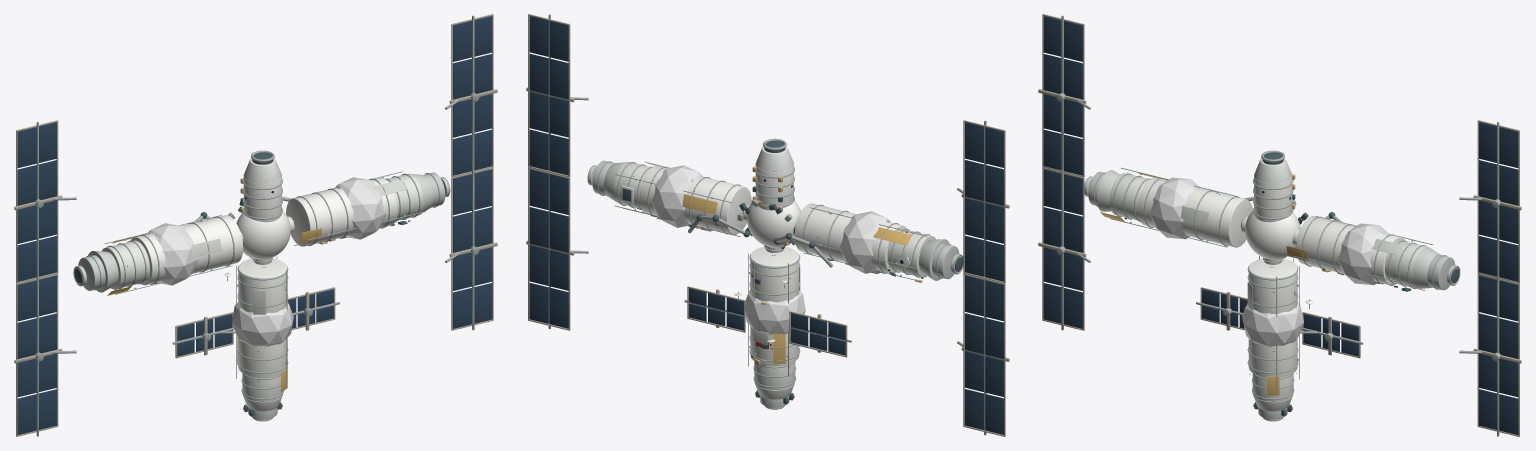
The model's file is station-exterior-v4.glb.
3 views of the same model, side by side, from view 1: azimuth 30°, elevation 25°; view 2: azimuth 150°, elevation 25°; view 3: azimuth 330°, elevation 25° (orthographic).
Visible parts, largest first — view 1: STA_Solar_Array_Lower_Left, STA_Solar_Array_Upper_Left, STA_Solar_Array_Lower_Right, STA_Solar_Array_Upper_Right, STA_Mengtian_WorkingCabin_Shell, STA_Wentian_WorkingCabin_Shell, STA_Tianhe_LifeControlForward_Shell, HOTSPOT_Module_Tianhe, HOTSPOT_Module_Mengtian, HOTSPOT_Module_Wentian, STA_Central_Node_V4, STA_Tianhe_LifeControlAft_Shell (+9 smaller); view 2: STA_Solar_Array_Upper_Right, STA_Solar_Array_Lower_Right, STA_Solar_Array_Upper_Left, STA_Solar_Array_Lower_Left, STA_Wentian_WorkingCabin_Shell, STA_Mengtian_WorkingCabin_Shell, STA_Tianhe_LifeControlForward_Shell, HOTSPOT_Module_Mengtian, HOTSPOT_Module_Wentian, HOTSPOT_Module_Tianhe, STA_Central_Node_V4, STA_Solar_Array_Core_Left (+9 smaller); view 3: STA_Solar_Array_Lower_Right, STA_Solar_Array_Upper_Right, STA_Solar_Array_Lower_Left, STA_Solar_Array_Upper_Left, STA_Wentian_WorkingCabin_Shell, STA_Mengtian_WorkingCabin_Shell, STA_Tianhe_LifeControlForward_Shell, HOTSPOT_Module_Tianhe, HOTSPOT_Module_Mengtian, HOTSPOT_Module_Wentian, STA_Central_Node_V4, STA_Tianhe_LifeControlAft_Shell (+10 smaller).
Boxes of the visible parts, bbox=[...] form: STA_Solar_Array_Lower_Left: bbox=[17, 275, 56, 434]; STA_Solar_Array_Upper_Left: bbox=[17, 122, 56, 281]; STA_Solar_Array_Lower_Right: bbox=[453, 169, 492, 328]; STA_Solar_Array_Upper_Right: bbox=[453, 16, 492, 175]; STA_Mengtian_WorkingCabin_Shell: bbox=[286, 177, 397, 246]; STA_Wentian_WorkingCabin_Shell: bbox=[130, 215, 243, 285]; STA_Tianhe_LifeControlForward_Shell: bbox=[238, 258, 287, 312]; HOTSPOT_Module_Tianhe: bbox=[232, 302, 293, 346]; HOTSPOT_Module_Mengtian: bbox=[334, 177, 385, 239]; HOTSPOT_Module_Wentian: bbox=[148, 223, 197, 285]; STA_Central_Node_V4: bbox=[236, 211, 290, 259]; STA_Tianhe_LifeControlAft_Shell: bbox=[238, 339, 286, 377]; STA_Solar_Array_Upper_Right: bbox=[529, 16, 568, 175]; STA_Solar_Array_Lower_Right: bbox=[529, 169, 568, 328]; STA_Solar_Array_Upper_Left: bbox=[965, 122, 1003, 281]; STA_Solar_Array_Lower_Left: bbox=[965, 275, 1003, 434]; STA_Wentian_WorkingCabin_Shell: bbox=[794, 203, 906, 272]; STA_Mengtian_WorkingCabin_Shell: bbox=[640, 165, 751, 234]; STA_Tianhe_LifeControlForward_Shell: bbox=[750, 246, 799, 302]; HOTSPOT_Module_Mengtian: bbox=[651, 165, 702, 227]; HOTSPOT_Module_Wentian: bbox=[840, 211, 891, 273]; HOTSPOT_Module_Tianhe: bbox=[744, 289, 805, 334]; STA_Central_Node_V4: bbox=[747, 201, 801, 247]; STA_Solar_Array_Core_Left: bbox=[791, 313, 845, 355]; STA_Solar_Array_Lower_Right: bbox=[1479, 275, 1518, 434]; STA_Solar_Array_Upper_Right: bbox=[1479, 122, 1518, 281]; STA_Solar_Array_Lower_Left: bbox=[1043, 169, 1082, 328]; STA_Solar_Array_Upper_Left: bbox=[1043, 16, 1082, 175]; STA_Wentian_WorkingCabin_Shell: bbox=[1138, 177, 1252, 247]; STA_Mengtian_WorkingCabin_Shell: bbox=[1296, 216, 1404, 285]; STA_Tianhe_LifeControlForward_Shell: bbox=[1248, 258, 1297, 313]; HOTSPOT_Module_Tianhe: bbox=[1242, 302, 1303, 346]; HOTSPOT_Module_Mengtian: bbox=[1338, 223, 1389, 285]; HOTSPOT_Module_Wentian: bbox=[1150, 177, 1201, 239]; STA_Central_Node_V4: bbox=[1245, 211, 1300, 259]; STA_Tianhe_LifeControlAft_Shell: bbox=[1248, 338, 1297, 377].
Size of the model in its own units: 47.44 by 32.23 by 6.79.
